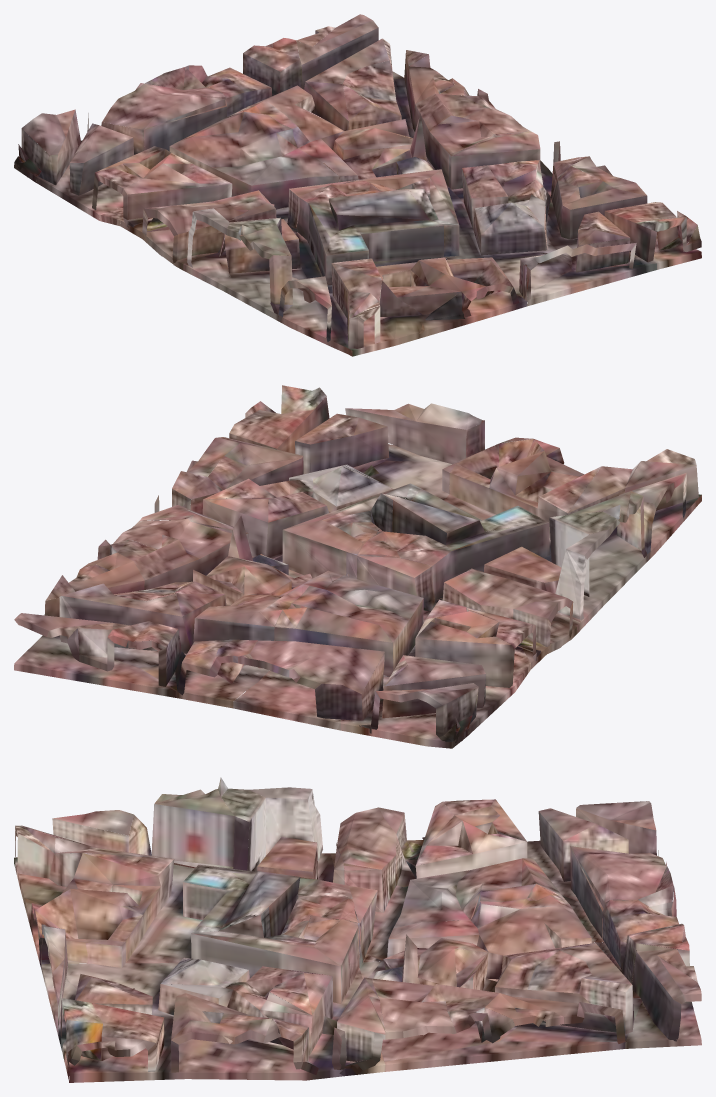
The picture shows the model from 3 angles, top to bottom: view 1: azimuth 30°, elevation 25°; view 2: azimuth 150°, elevation 25°; view 3: azimuth 270°, elevation 25°; orthographic projection. The views are drawn at different scales.
Parts seen in each view (by area): view 1: Mesh_0; view 2: Mesh_0; view 3: Mesh_0.
Boxes of the visible parts, x1,y1,x2,y2 form: Mesh_0: [14, 14, 701, 356]; Mesh_0: [14, 385, 701, 748]; Mesh_0: [14, 777, 701, 1082].
Size of the model in its own units: 266 by 53.25 by 330.
2 materials, 2 textured.
